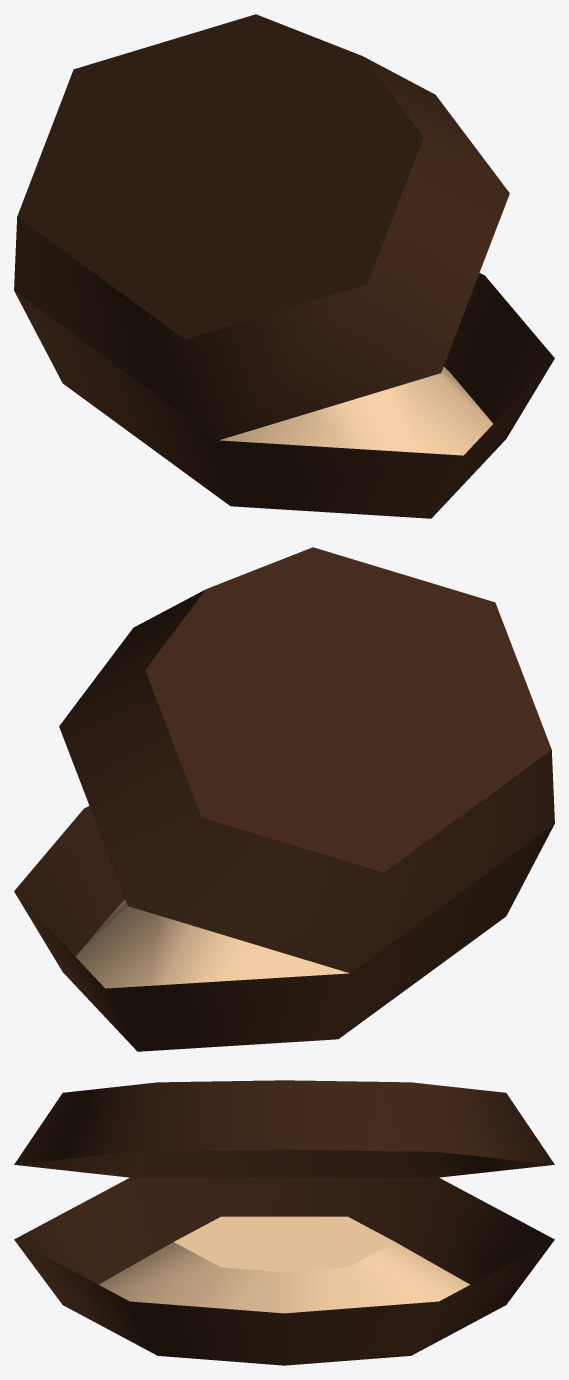
File: Mussel Open.glb
3 renders of one model, top to bottom at view 1: azimuth 30°, elevation 25°; view 2: azimuth 150°, elevation 25°; view 3: azimuth 270°, elevation 25°, orthographic. The views are drawn at different scales.
Parts seen in each view (by area): view 1: Mussel Open; view 2: Mussel Open; view 3: Mussel Open.
Boxes of the visible parts, x1,y1,x2,y2 form: Mussel Open: (14, 14, 554, 518); Mussel Open: (14, 547, 554, 1051); Mussel Open: (14, 1080, 554, 1365).
Size of the model in its own units: 0.0423 by 0.0354 by 0.0684.
